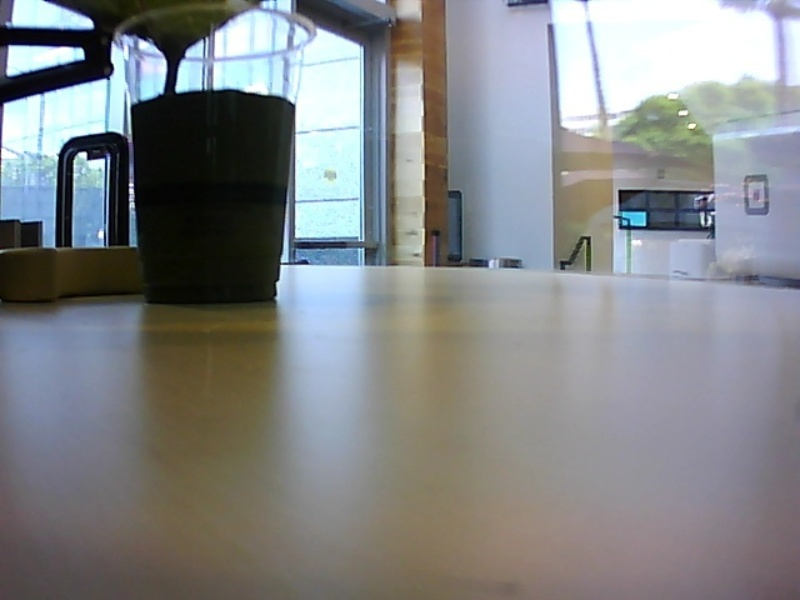cup: (105, 3, 321, 310)
limit: (127, 82, 298, 113)
